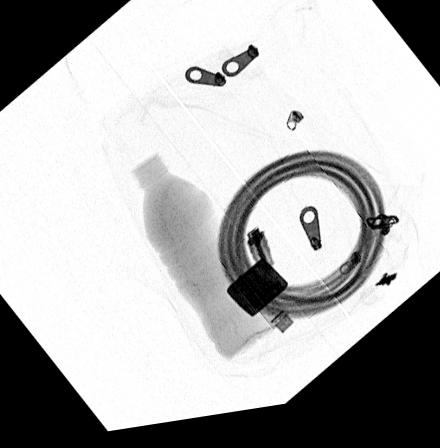Lighter: (226, 263, 288, 325)
